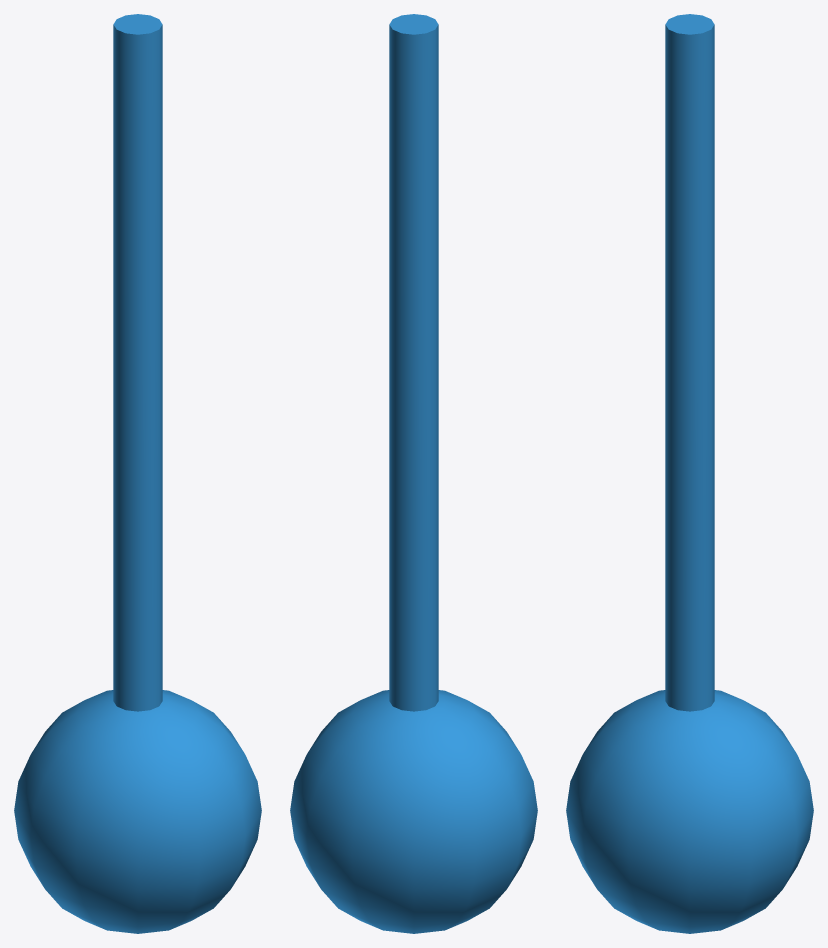
Rendered from Obtacle_Ball_Blue.fbx.
3 views of the same model, side by side, from view 1: azimuth 30°, elevation 25°; view 2: azimuth 150°, elevation 25°; view 3: azimuth 270°, elevation 25° (orthographic).
Parts seen in each view (by area): view 1: obtacle_ball_blue; view 2: obtacle_ball_blue; view 3: obtacle_ball_blue.
Part boxes in pixels (x1=…): obtacle_ball_blue: x1=14, y1=14, x2=261, y2=933; obtacle_ball_blue: x1=290, y1=14, x2=537, y2=933; obtacle_ball_blue: x1=566, y1=14, x2=813, y2=933.
Bounding box in the file's own units: 127 × 509 × 127.
